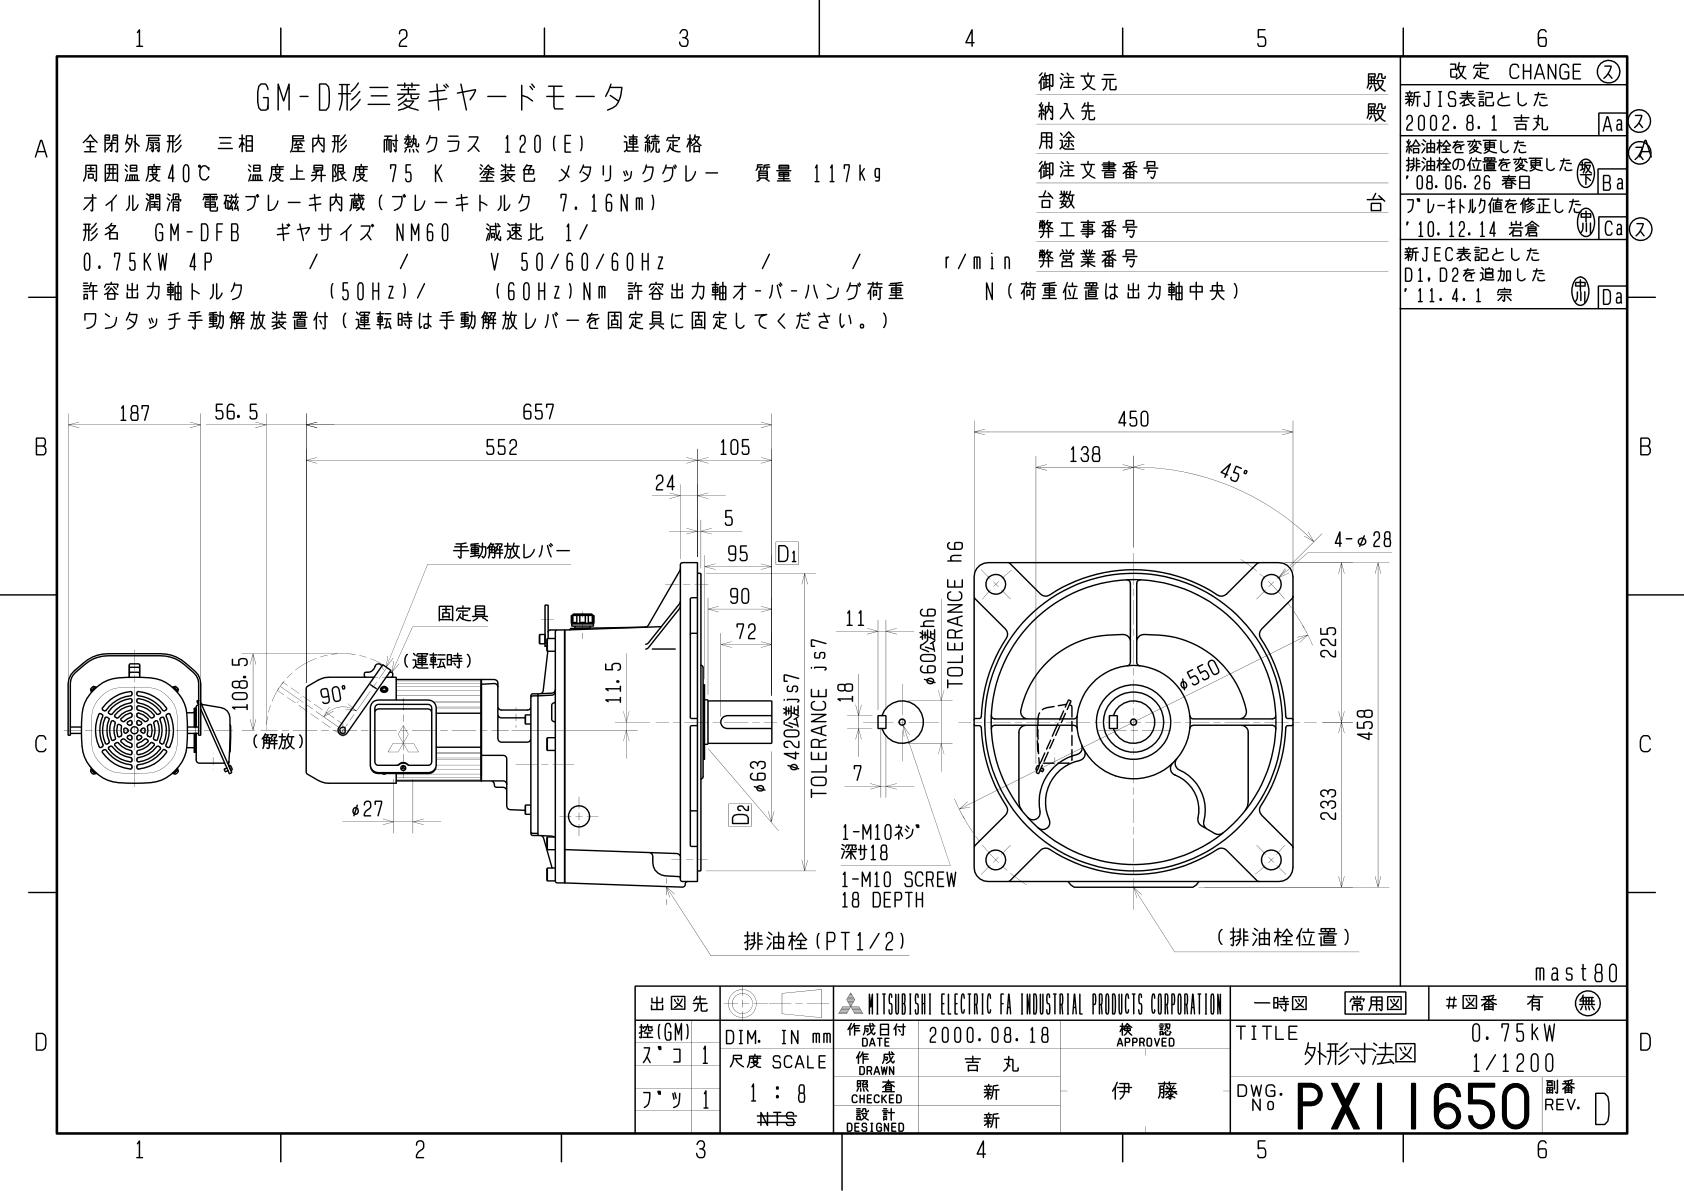GM_D_手動解放ブレーキ＿三相_フランジ: (61, 353, 1393, 980)
